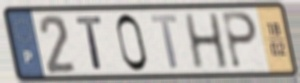0: (114, 12, 150, 74)
2: (38, 12, 79, 76)
H: (182, 11, 231, 71)
P: (220, 10, 260, 71)
T: (148, 13, 180, 71), (74, 15, 105, 72)
